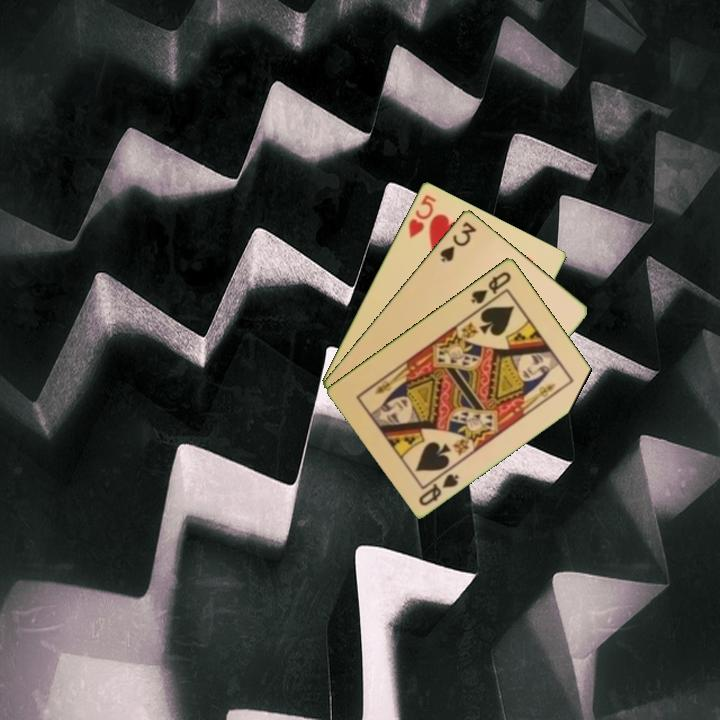3s: (436, 218, 479, 265)
5h: (405, 191, 439, 241)
Qs: (415, 463, 462, 508), (467, 267, 514, 306)
